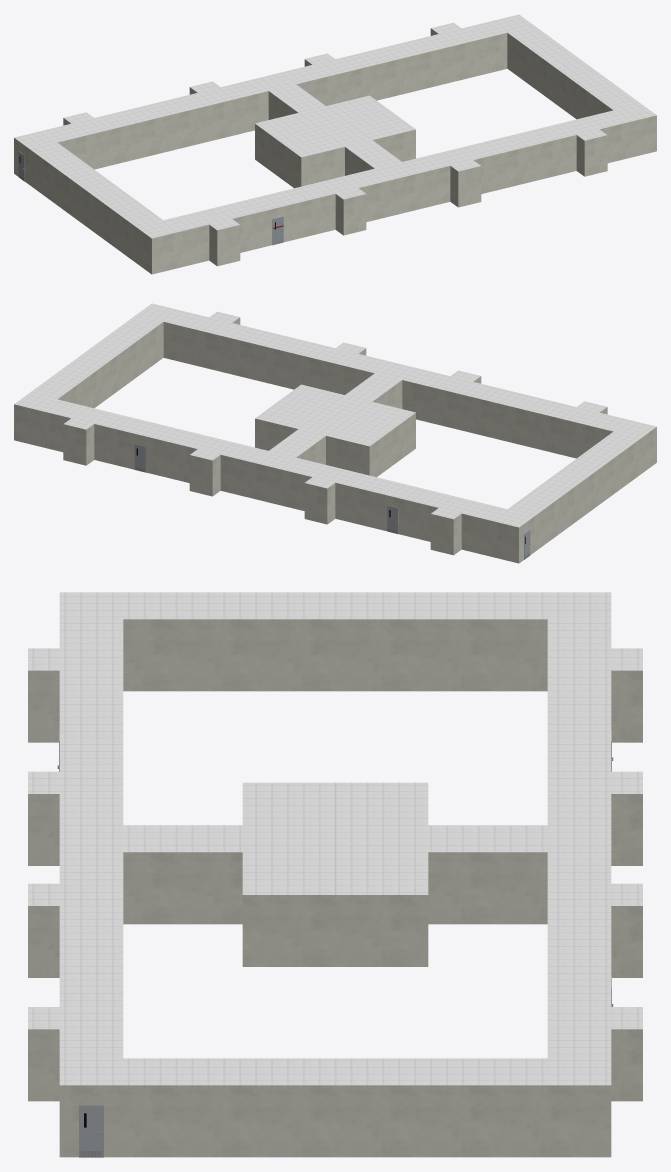
The model's file is corridors_b.glb.
The picture shows the model from 3 angles, top to bottom: view 1: azimuth 30°, elevation 25°; view 2: azimuth 150°, elevation 25°; view 3: azimuth 270°, elevation 25°; orthographic projection. The views are drawn at different scales.
Parts seen in each view (by area): view 1: Wall_Corridor, Ceiling_Tile; view 2: Wall_Corridor, Ceiling_Tile; view 3: Ceiling_Tile, Wall_Corridor, DoorLeaf_checkpoint_3.
Boxes of the visible parts, box(x1,y1,x2,y2) form: Wall_Corridor: box(14, 28, 656, 274); Ceiling_Tile: box(14, 14, 656, 238); Wall_Corridor: box(14, 317, 656, 563); Ceiling_Tile: box(14, 303, 656, 527); Ceiling_Tile: box(28, 592, 642, 1085); Wall_Corridor: box(28, 619, 642, 1157); DoorLeaf_checkpoint_3: box(79, 1105, 103, 1157).
Size of the model in its own units: 44.15 by 3 by 23.2.
25 materials, 9 textured.
